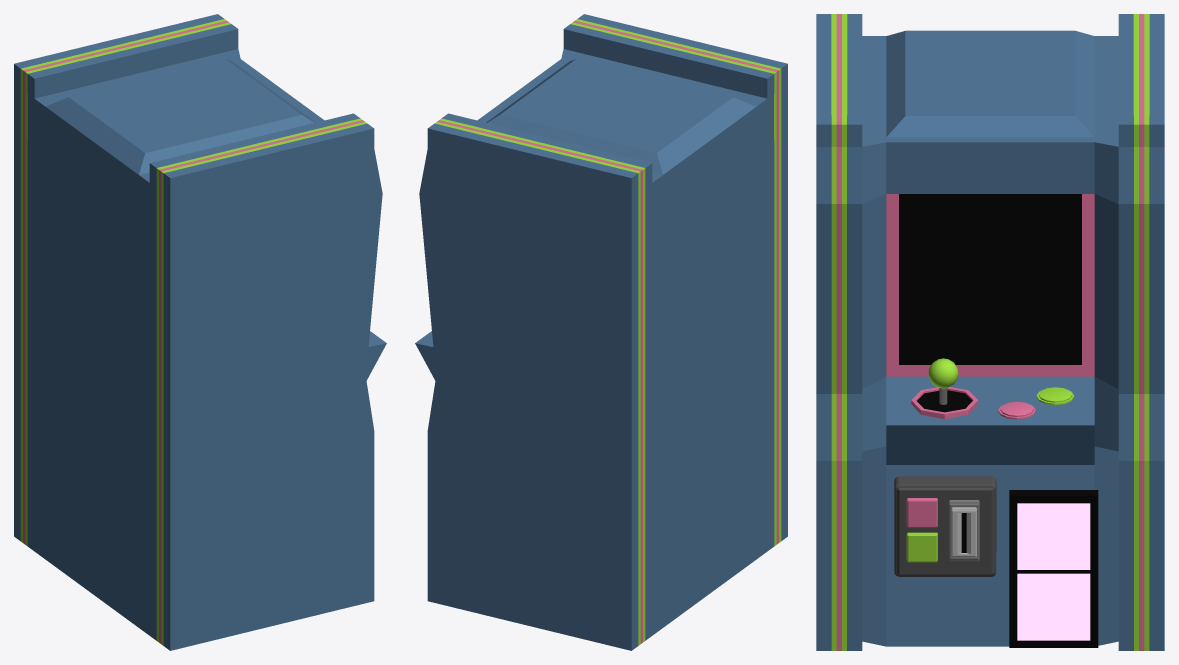
File: Arcade.fbx
3 views of the same model, side by side, from view 1: azimuth 30°, elevation 25°; view 2: azimuth 150°, elevation 25°; view 3: azimuth 270°, elevation 25° (orthographic). The views are drawn at different scales.
Visible parts, largest first — view 1: Batiment; view 2: Batiment; view 3: Batiment, PorteArcade, Roundcube.001, BaseStick, Roundcube.005, Roundcube.003, Roundcube.002, Roundcube, Roundcube.004, Circle.001, Circle.002.
Part boxes in pixels (x1,y1,x2,y2): Batiment: (14,14,386,650); Batiment: (415,14,787,650); Batiment: (816,14,1164,650); PorteArcade: (1009,490,1098,647); Roundcube.001: (894,476,996,576); BaseStick: (911,387,978,419); Roundcube.005: (951,507,976,557); Roundcube.003: (906,532,937,562); Roundcube.002: (906,498,937,527); Roundcube: (928,358,958,388); Roundcube.004: (948,500,979,561); Circle.001: (998,401,1035,419); Circle.002: (1036,387,1074,405).
Size of the model in its own units: 2098 by 3822 by 2291.
